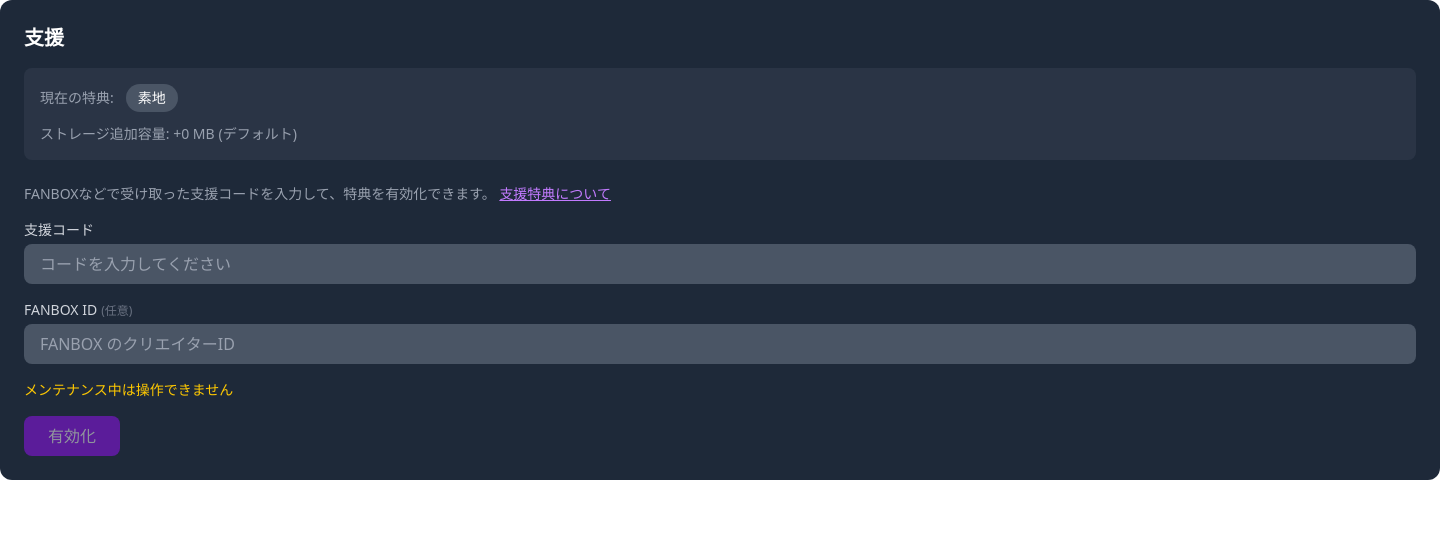
Test: SupportPlanSection maintenance integration › 事前disableをすり抜けたフォーム送信（例: Enterキー）も、送信前にガードしてサーバーへfetchしない
Type "CODE123" into the field with placeholder "コードを入力してください" at (720, 264), box [24,244,1416,284]
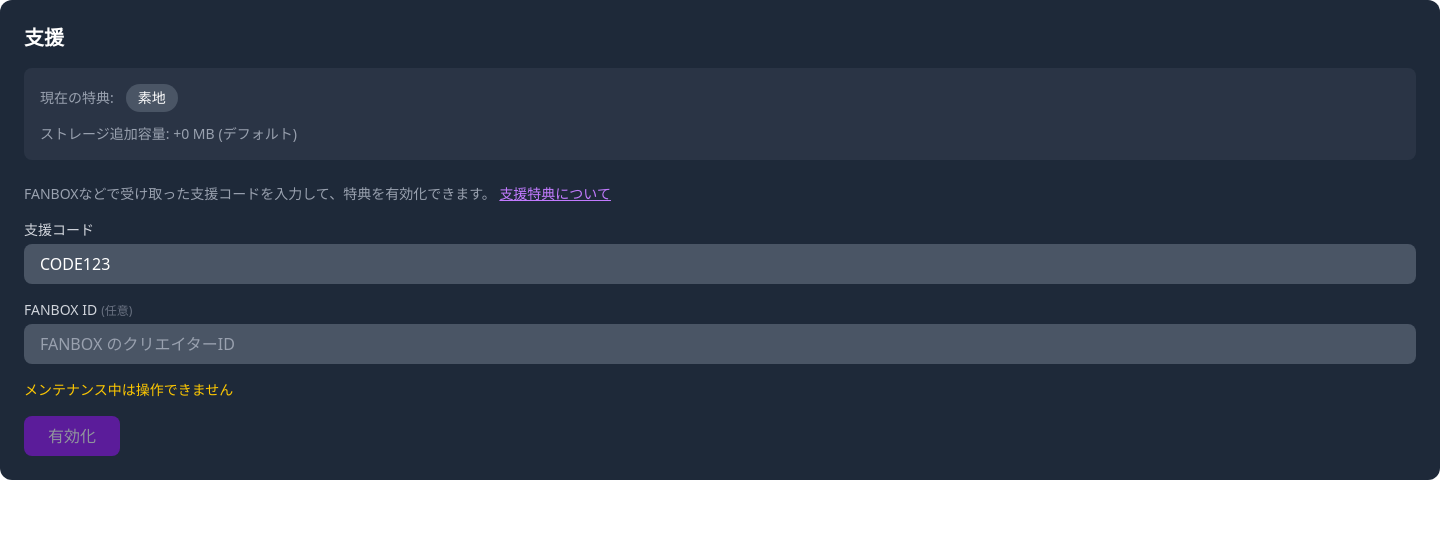
Submit the form, box [24,184,1416,456]
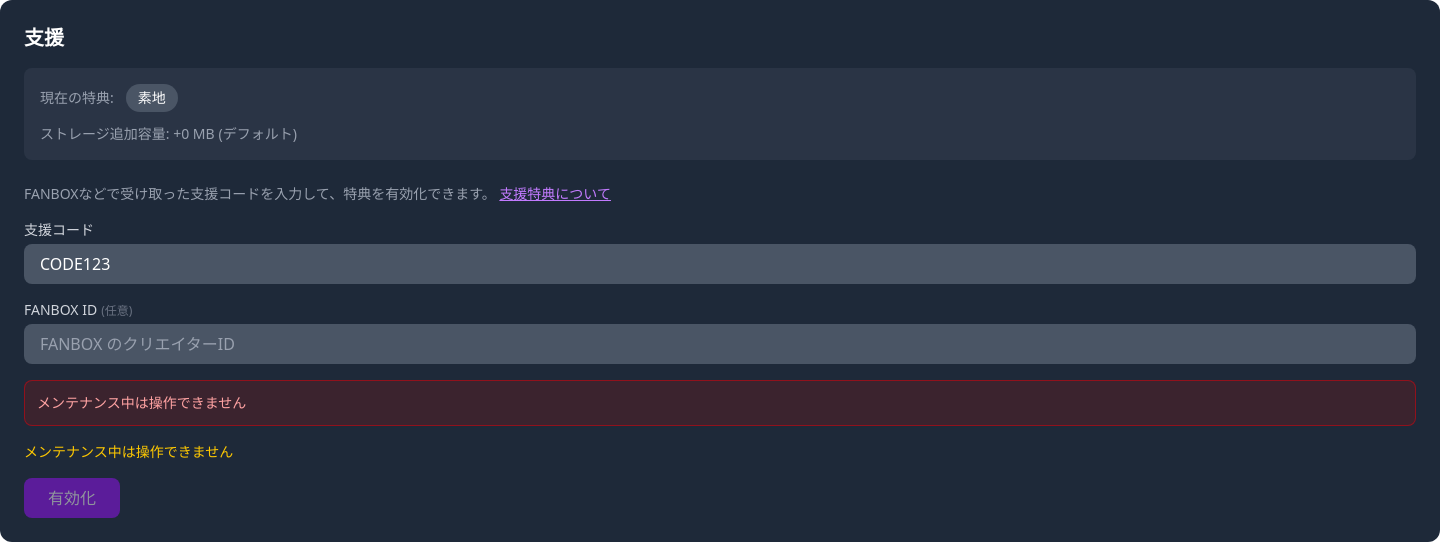
Now the 1st text "メンテナンス中は操作できません" is shown, box [24,380,1416,426]
